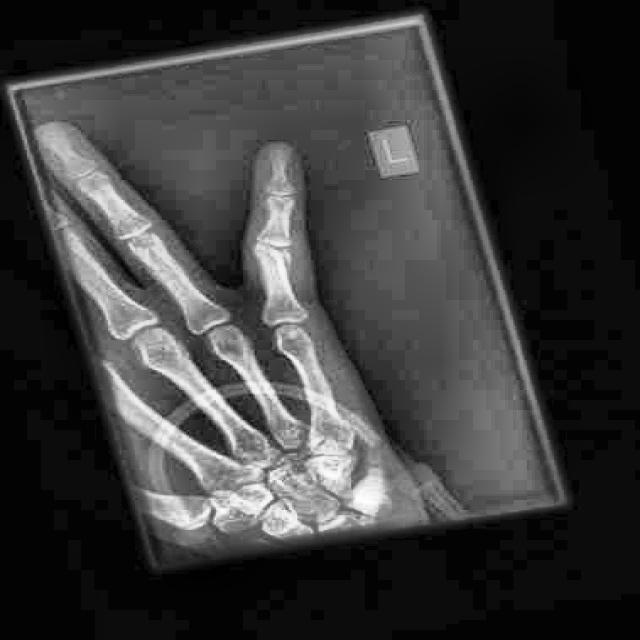fingers positive: (258, 238, 307, 285)
